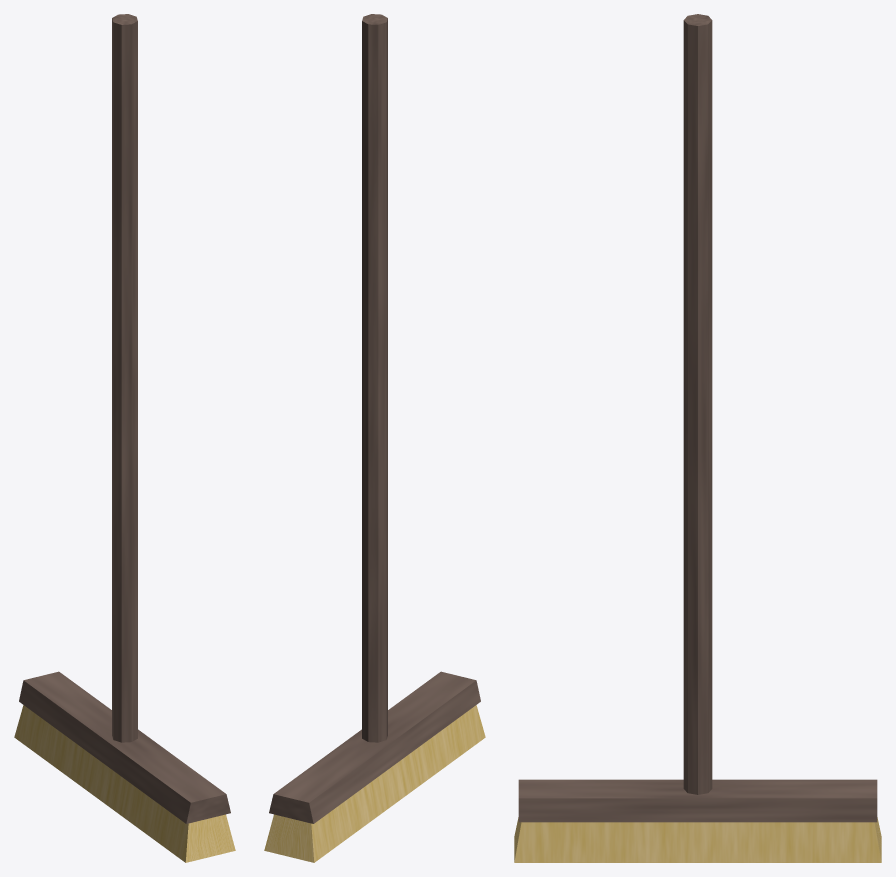
Rendered from broom.fbx.
3 views of the same model, side by side, from view 1: azimuth 30°, elevation 25°; view 2: azimuth 150°, elevation 25°; view 3: azimuth 270°, elevation 25° (orthographic). The views are drawn at different scales.
Parts seen in each view (by area): view 1: broom; view 2: broom; view 3: broom.
Part boxes in pixels (x1,y1,x2,y2): broom: (14,14,235,862); broom: (264,14,485,862); broom: (514,14,881,862).
Size of the model in its own units: 137 by 342 by 23.11.
